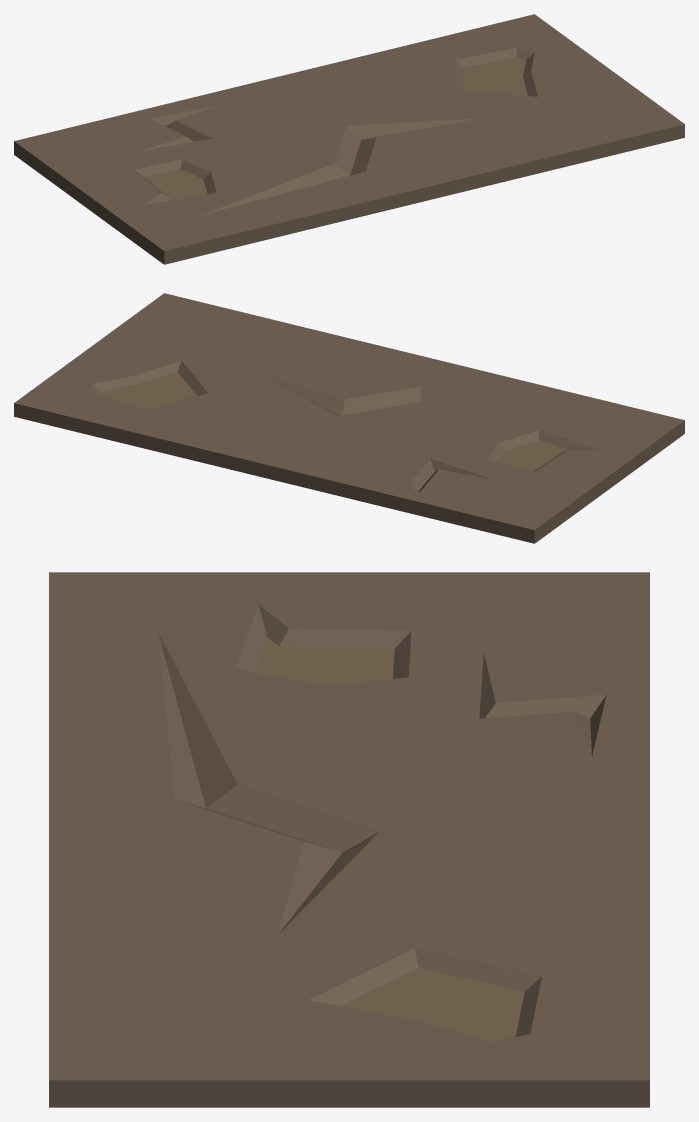
The model's file is LP_PostApoc_LongPavement1.fbx.
3 renders of one model, top to bottom at view 1: azimuth 30°, elevation 25°; view 2: azimuth 150°, elevation 25°; view 3: azimuth 270°, elevation 25°, orthographic. The views are drawn at different scales.
Parts seen in each view (by area): view 1: LongPavement1; view 2: LongPavement1; view 3: LongPavement1.
Part boxes in pixels (x1,y1,x2,y2): LongPavement1: [14, 14, 684, 264]; LongPavement1: [14, 293, 684, 543]; LongPavement1: [49, 572, 649, 1107].
Bounding box in the file's own units: 800 × 20 × 400.
